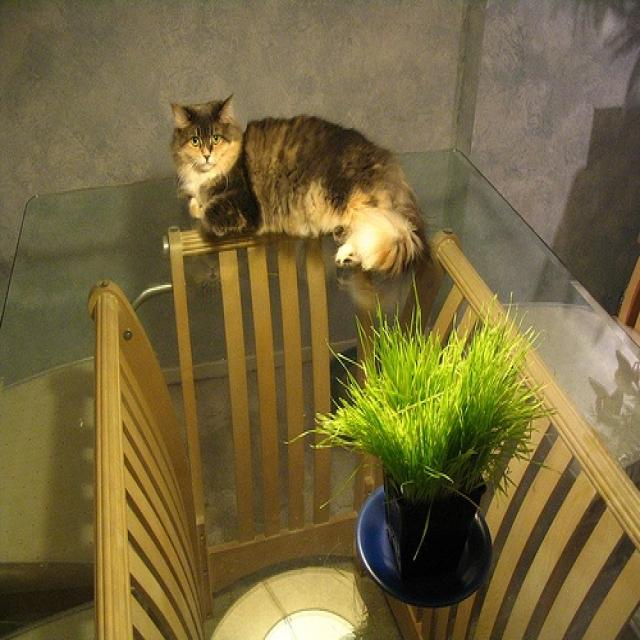cat: (168, 96, 422, 270)
pottedplant: (316, 301, 556, 578)
